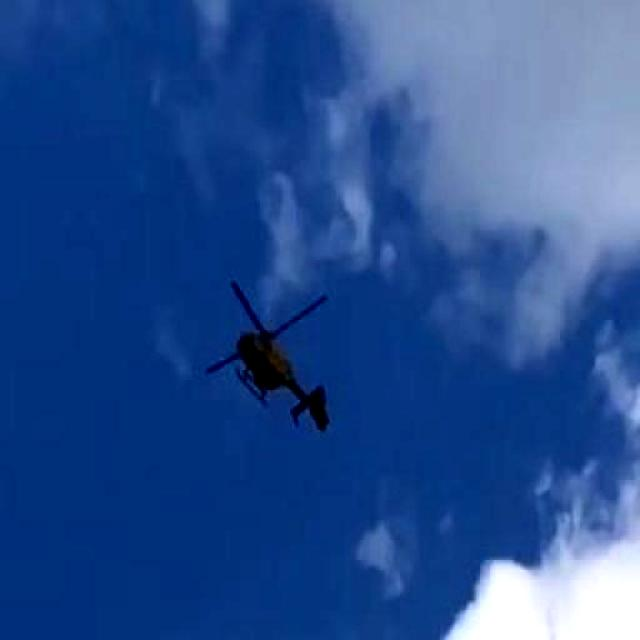drone: (182, 226, 379, 462)
